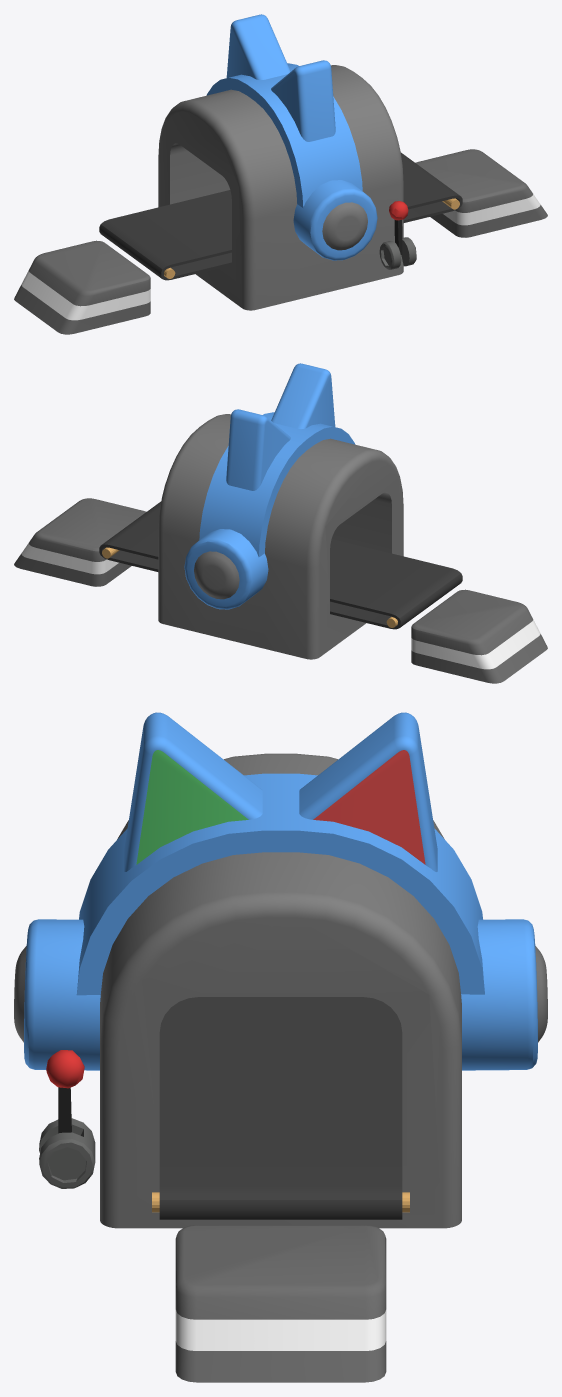
The model's file is makina9.fbx.
The picture shows the model from 3 angles, top to bottom: view 1: azimuth 30°, elevation 25°; view 2: azimuth 150°, elevation 25°; view 3: azimuth 270°, elevation 25°; orthographic projection. The views are drawn at different scales.
Parts seen in each view (by area): view 1: govde.009, stack.004, palet.008, kol.004; view 2: govde.009, stack.004, palet.008; view 3: govde.009, palet.008, stack.004, kol.004.
Part boxes in pixels (x1,y1,x2,y2): govde.009: (158,14,416,310); stack.004: (14,149,547,334); palet.008: (99,152,462,280); kol.004: (389,201,408,254); govde.009: (158,363,403,659); stack.004: (14,498,547,683); palet.008: (99,501,462,629); govde.009: (14,712,547,1228); palet.008: (152,997,409,1219); stack.004: (175,1225,386,1382); kol.004: (46,1050,84,1133).
Bounding box in the file's own units: 611 × 260 × 295.
